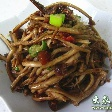chashugu: (3, 1, 112, 107)
